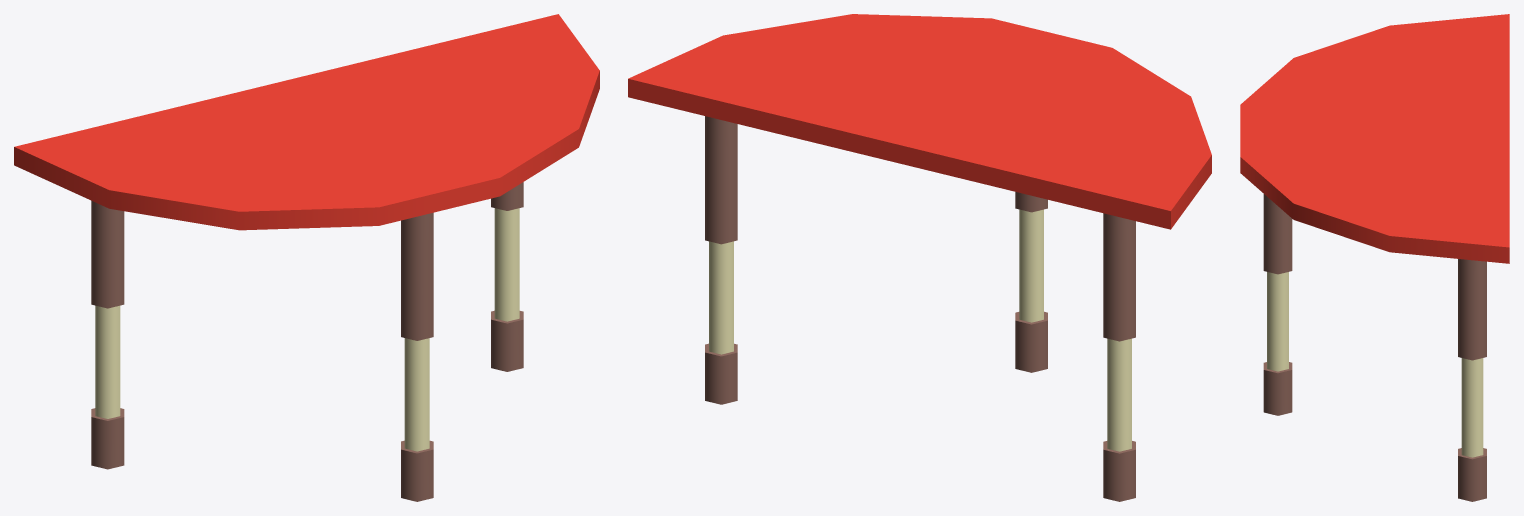
Rendered from office_table_019.glb.
The picture shows the model from 3 angles, left to right: view 1: azimuth 30°, elevation 25°; view 2: azimuth 150°, elevation 25°; view 3: azimuth 270°, elevation 25°; orthographic projection. The views are drawn at different scales.
Visible parts, largest first — view 1: office_table_019; view 2: office_table_019; view 3: office_table_019.
Boxes of the visible parts, x1=… form: office_table_019: x1=14, y1=14, x2=599, y2=501; office_table_019: x1=628, y1=14, x2=1211, y2=501; office_table_019: x1=1240, y1=14, x2=1509, y2=501.
Bounding box in the file's own units: 0.9189 × 0.5111 × 0.4479.
1 material, 1 textured.
